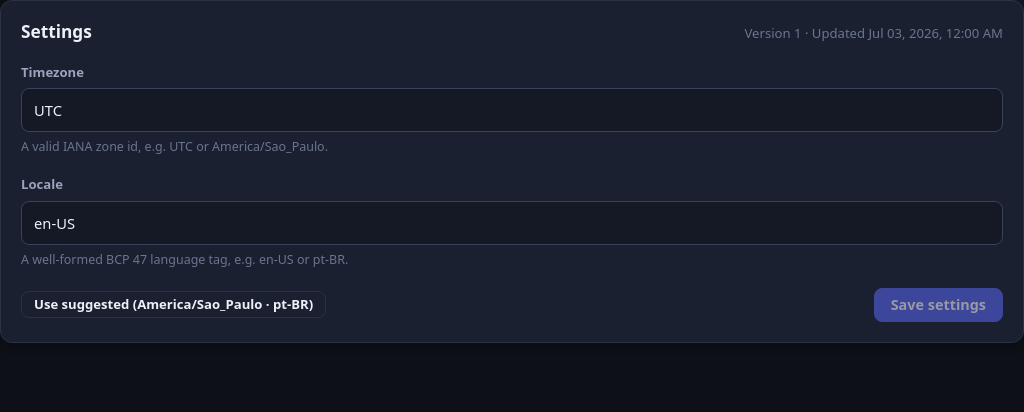
it: SettingsTab conflict handling › saves successfully and updates the version indicator
Step 1. Replace the text in the field labelled "Timezone" with "America/Sao_Paulo" → x=512, y=110, box [21,88,1003,132]
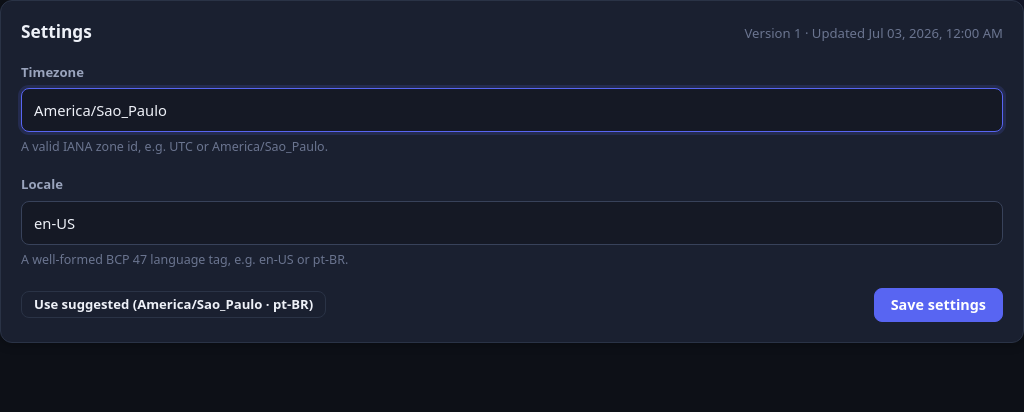
Step 2. Click the button "Save settings" → x=938, y=305, box [874,288,1003,322]
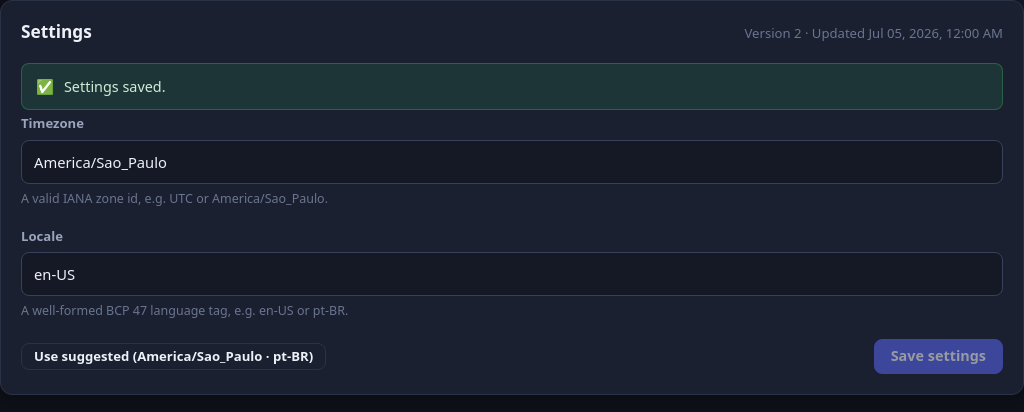
Now the text "Settings saved." is shown, box [64,76,166,97]
Now the text "Version 2 · Updated Jul 05, 2026, 12:00 AM" is shown, box [744,24,1003,44]
